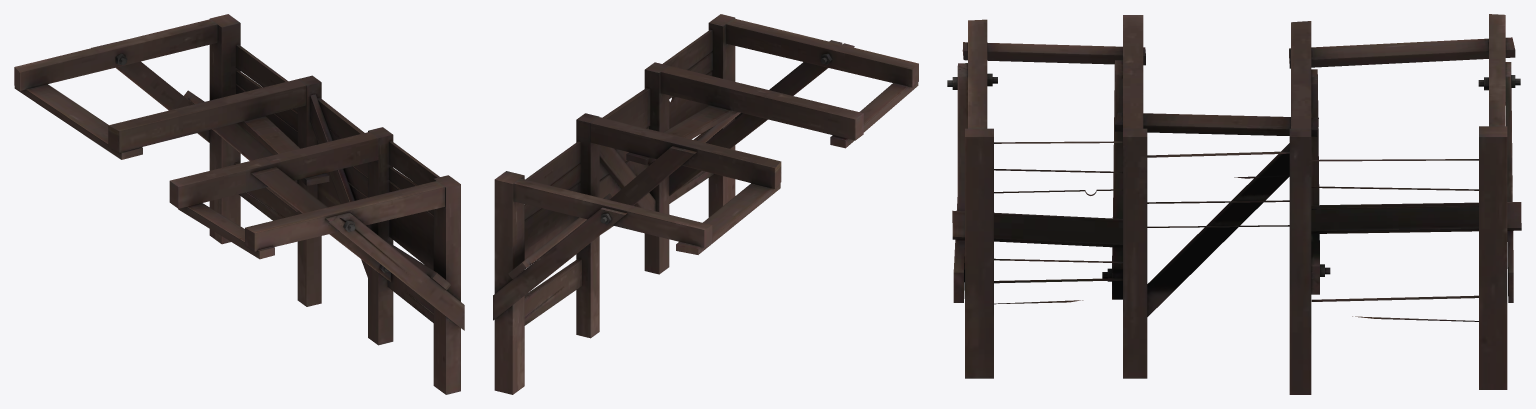
3 views of the same model, side by side, from view 1: azimuth 30°, elevation 25°; view 2: azimuth 150°, elevation 25°; view 3: azimuth 270°, elevation 25° (orthographic). The views are drawn at different scales.
Parts seen in each view (by area): view 1: body0_model0_lod0_mesh0; view 2: body0_model0_lod0_mesh0; view 3: body0_model0_lod0_mesh0.
Part boxes in pixels (x1,y1,x2,y2): body0_model0_lod0_mesh0: (14,14,464,394); body0_model0_lod0_mesh0: (493,14,918,394); body0_model0_lod0_mesh0: (947,14,1521,394).
Bounding box in the file's own units: 138 × 135 × 272.
Materials: 1 (1 with a texture image).
